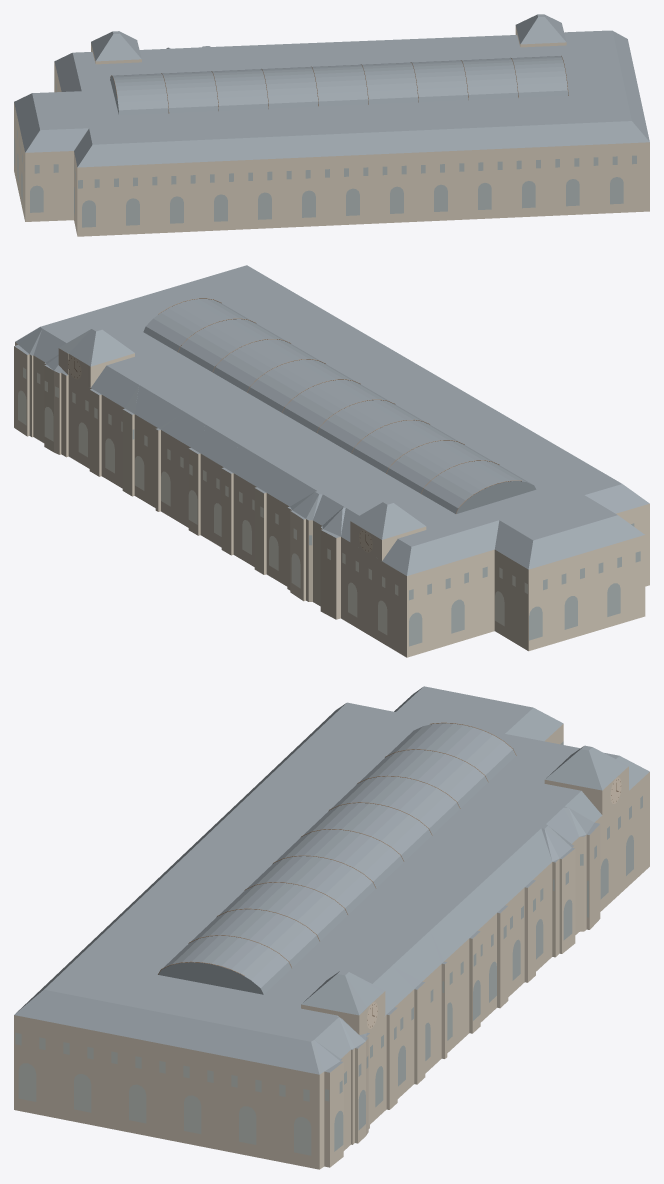
Rendered from detail.glb.
The picture shows the model from 3 angles, top to bottom: view 1: azimuth 30°, elevation 25°; view 2: azimuth 150°, elevation 25°; view 3: azimuth 270°, elevation 25°; orthographic projection. The views are drawn at different scales.
Visible parts, largest first — view 1: roof, stone, window, metal; view 2: roof, stone, window, metal; view 3: roof, stone, window, metal.
Boxes of the visible parts, bbox=[...] form: roof: bbox=[14, 14, 649, 167]; stone: bbox=[14, 26, 649, 236]; window: bbox=[14, 76, 636, 227]; metal: bbox=[110, 56, 568, 113]; roof: bbox=[14, 265, 649, 575]; stone: bbox=[14, 342, 649, 657]; window: bbox=[18, 367, 640, 646]; metal: bbox=[68, 298, 521, 551]; roof: bbox=[14, 686, 649, 1074]; stone: bbox=[14, 724, 649, 1169]; window: bbox=[15, 741, 642, 1155]; metal: bbox=[158, 722, 620, 1027].
Bounding box in the file's own units: 198 × 35 × 140.
